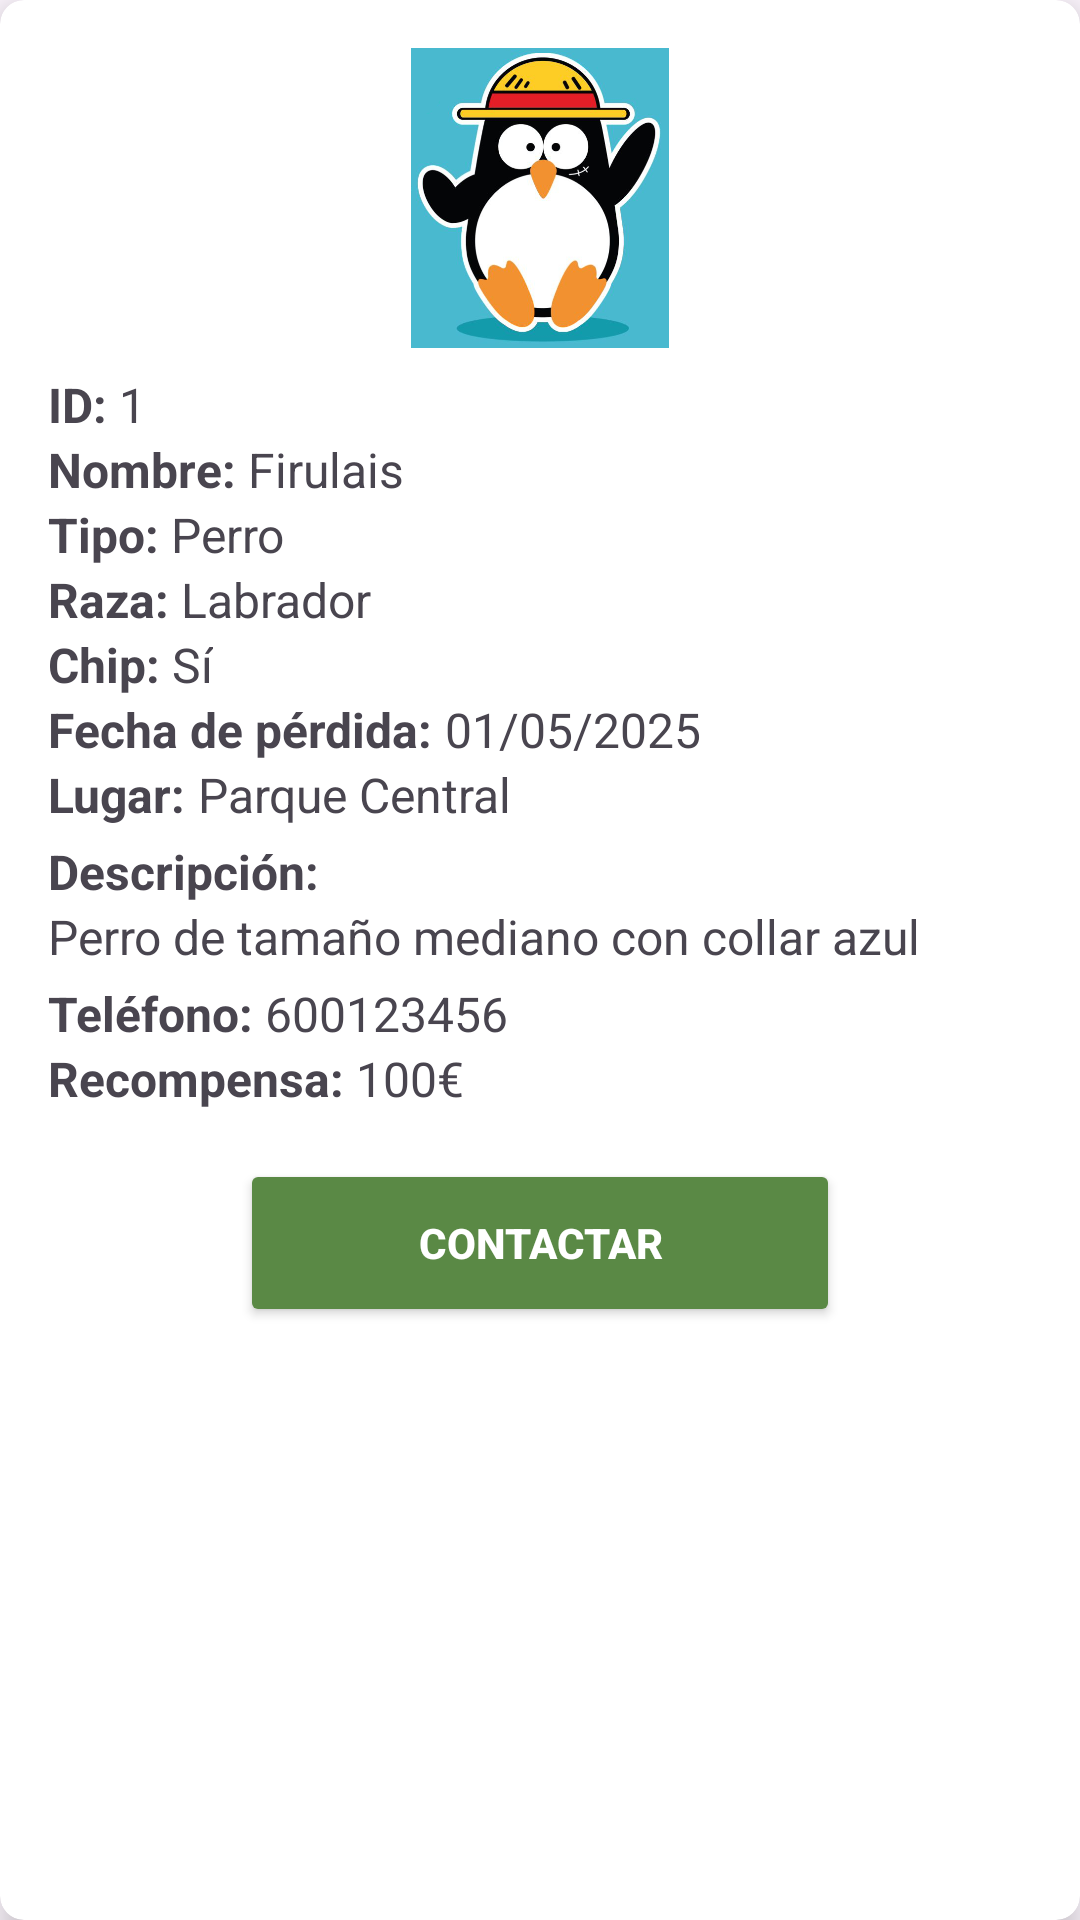

Where icons sit on this 1080 × 1920 app screen, as (x1, y1, x2, y2):
pinguinoilerna: (411, 48, 669, 348)
